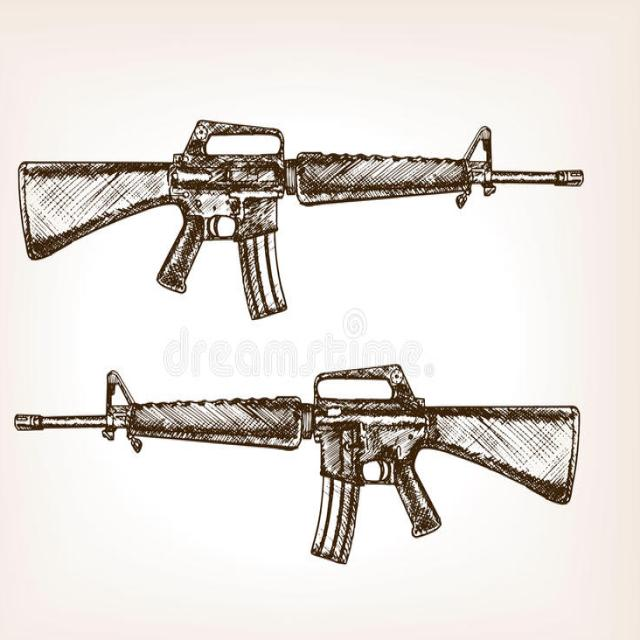Weapon: (15, 364, 579, 563), (19, 120, 582, 318)
